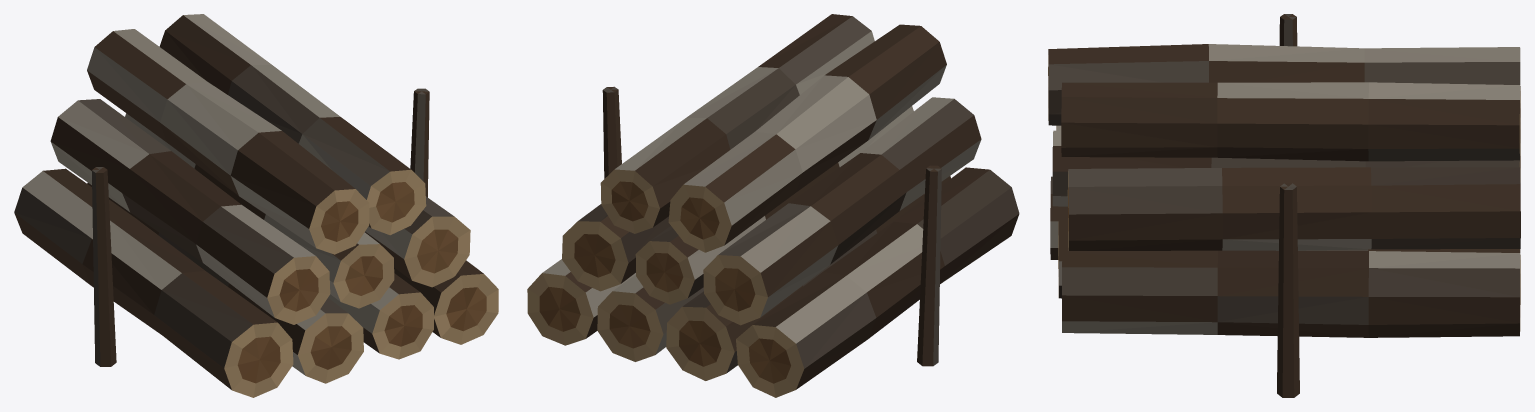
File: log-pile.glb
3 views of the same model, side by side, from view 1: azimuth 30°, elevation 25°; view 2: azimuth 150°, elevation 25°; view 3: azimuth 270°, elevation 25° (orthographic). The views are drawn at different scales.
Parts seen in each view (by area): view 1: log-pile; view 2: log-pile; view 3: log-pile.
Boxes of the visible parts, x1,y1,x2,y2 form: log-pile: (14, 14, 498, 397); log-pile: (527, 14, 1019, 397); log-pile: (1048, 14, 1520, 397).
Size of the model in its own units: 1.08 by 0.7074 by 1.22.
